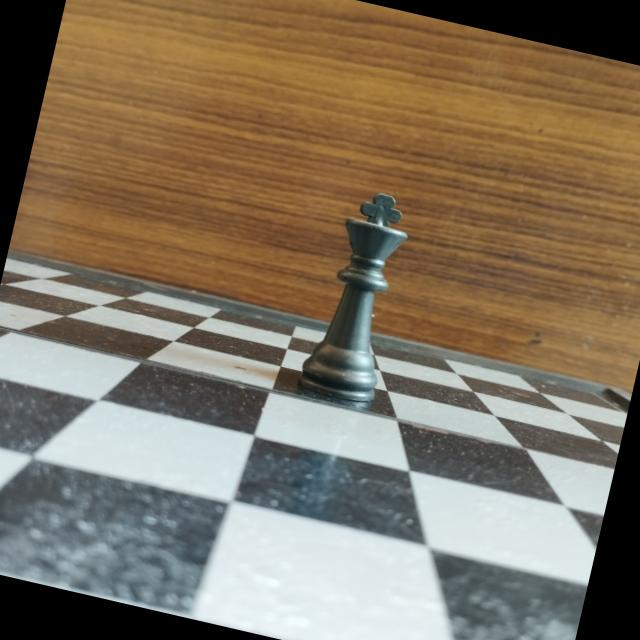Black King: (290, 175, 430, 412)
